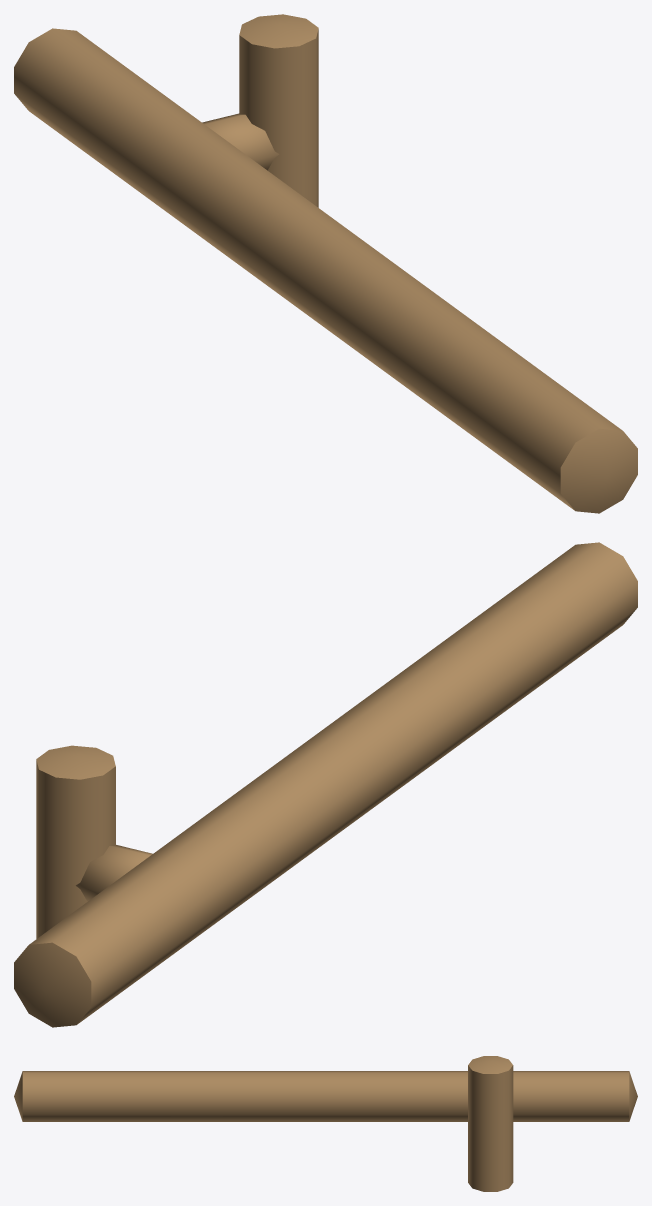
The model's file is tonfa.glb.
The picture shows the model from 3 angles, top to bottom: view 1: azimuth 30°, elevation 25°; view 2: azimuth 150°, elevation 25°; view 3: azimuth 270°, elevation 25°; orthographic projection. The views are drawn at different scales.
Parts seen in each view (by area): view 1: tonfa; view 2: tonfa; view 3: tonfa.
Boxes of the visible parts, left/top/right/bottom form: tonfa: left=14, top=14, right=637, bottom=513; tonfa: left=14, top=542, right=637, bottom=1027; tonfa: left=14, top=1056, right=637, bottom=1191.
Size of the model in its own units: 0.1283 by 0.16 by 0.72.
